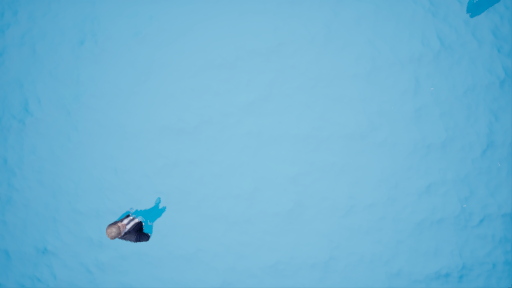person: (101, 195, 168, 250)
